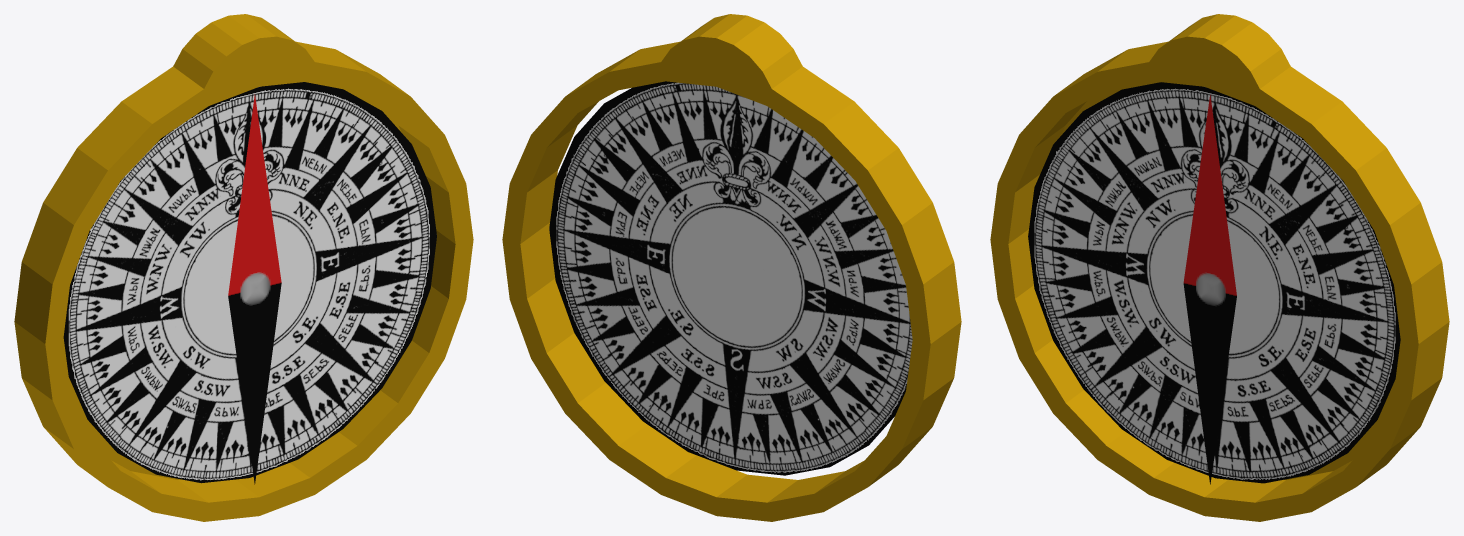
Rendered from compass.gltf.
The picture shows the model from 3 angles, left to right: view 1: azimuth 30°, elevation 25°; view 2: azimuth 150°, elevation 25°; view 3: azimuth 330°, elevation 25°; orthographic projection.
Parts seen in each view (by area): view 1: Component1, Component, Component2; view 2: Component1, Component; view 3: Component1, Component, Component2.
Part boxes in pixels (x1,y1,x2,y2): Component1: [63, 82, 436, 483]; Component: [14, 14, 473, 521]; Component2: [228, 94, 281, 484]; Component1: [549, 81, 912, 475]; Component: [502, 14, 961, 521]; Component1: [1028, 82, 1400, 483]; Component: [990, 14, 1449, 521]; Component2: [1183, 95, 1236, 484].
Size of the model in its own units: 0.24 by 0.2559 by 0.03.
Materials: 3 (2 with a texture image).
